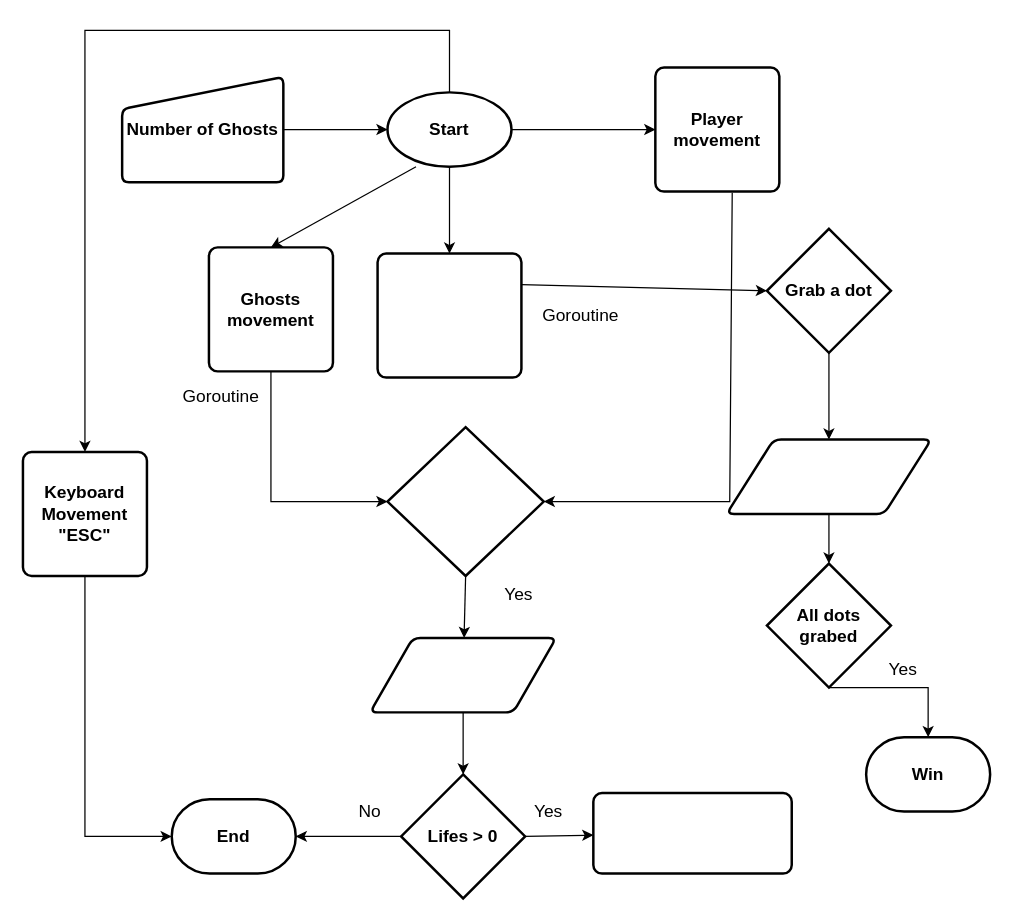
The diagram is 1012 pixels wide and 921 high, and some of its shapes have lost their labels. The shapes that lost their labels are listed below. From the top down, each one's centre as x and y in pixels, then its label:
At point 449,315: "Screen renderind Input Reading".
At point 828,476: "Score = Score+1".
At point 465,501: "Collision player- ghost".
At point 462,674: "Lifes=Lifes-1".
At point 691,832: "Continue Playing and Player appears in corner".
